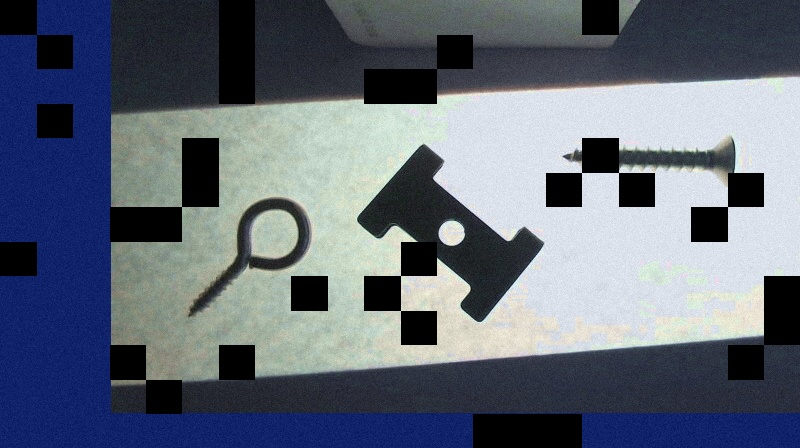O001: (188, 196, 313, 318)
O002: (356, 141, 544, 322)
S001: (560, 128, 738, 185)
